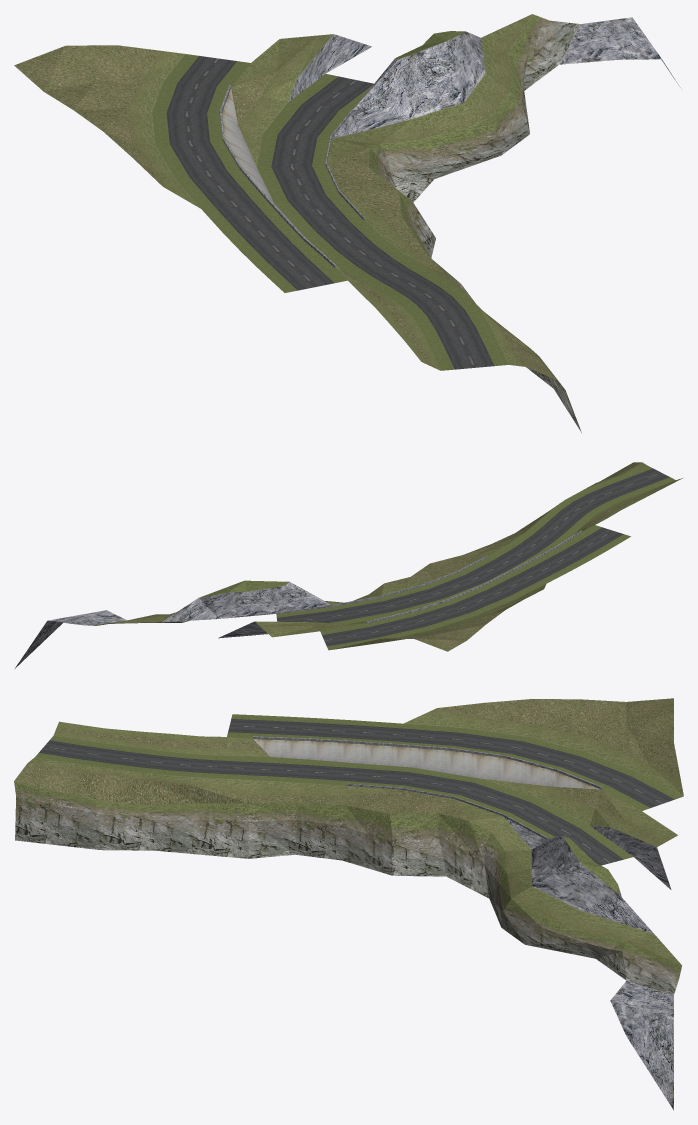
File: sw_bit_01.obj
3 views of the same model, one above another, from view 1: azimuth 30°, elevation 25°; view 2: azimuth 150°, elevation 25°; view 3: azimuth 270°, elevation 25° (orthographic). The views are drawn at different scales.
Visible parts, largest first — view 1: sw_bit_01; view 2: sw_bit_01; view 3: sw_bit_01.
Boxes of the visible parts, x1,y1,x2,y2 form: sw_bit_01: (14, 14, 680, 432); sw_bit_01: (15, 462, 682, 668); sw_bit_01: (14, 698, 683, 1110).
Bounding box in the file's own units: 232 × 64.91 × 250.
Materials: 11 (11 with a texture image).
